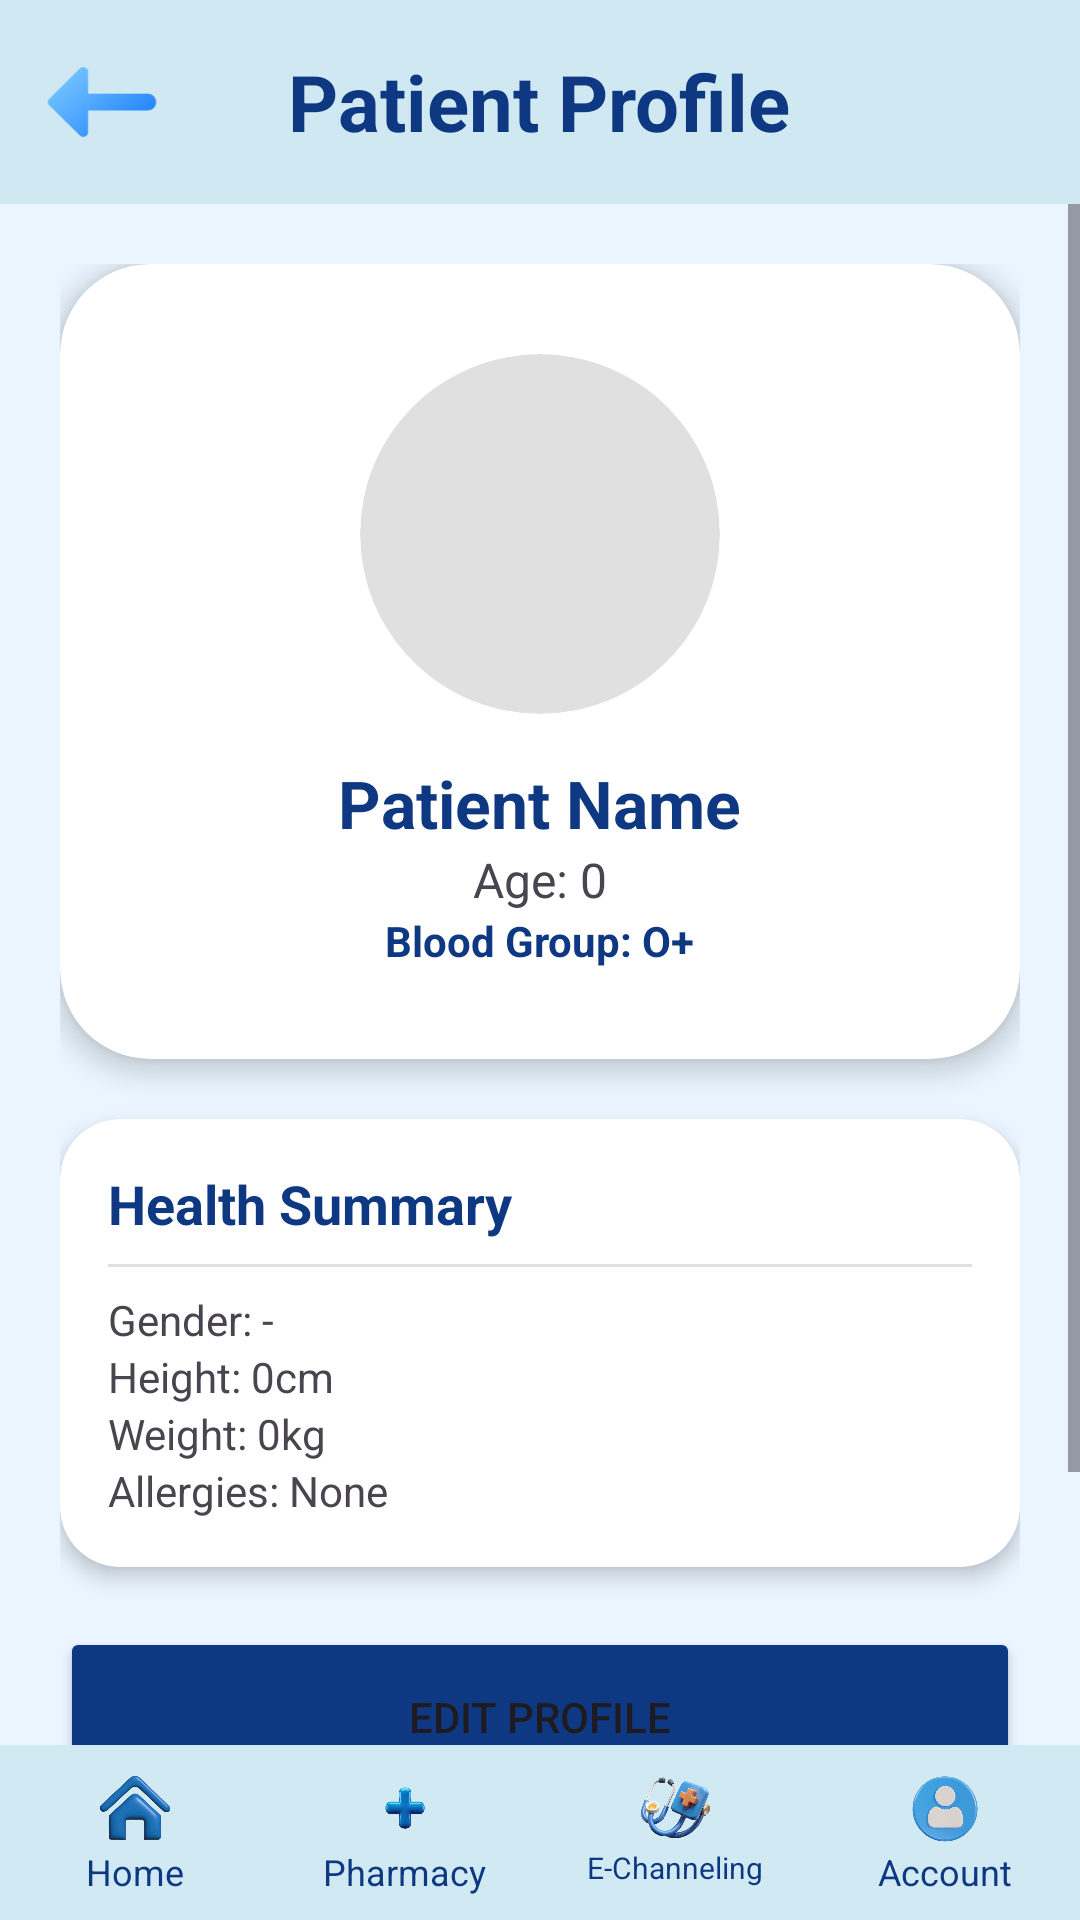

Where to tap for icons on this 1080 x 1920 app screen, as [x,y]:
arrow: [102,102]
